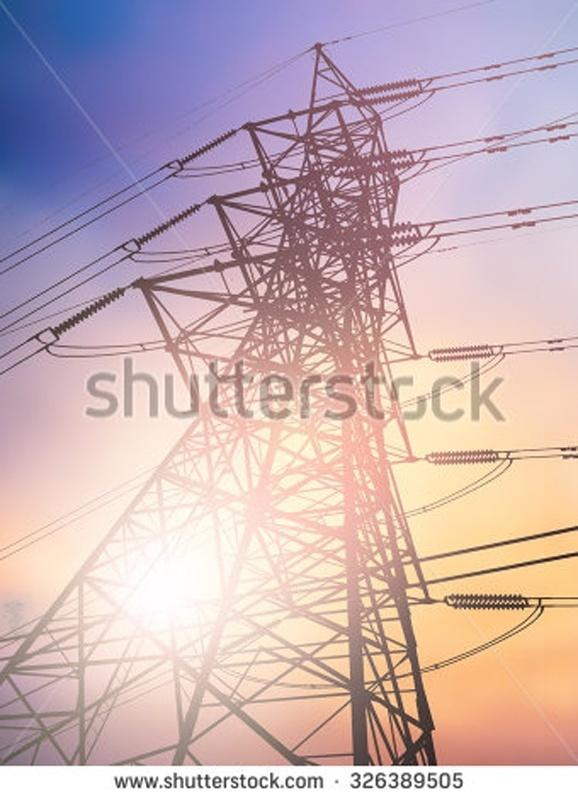power_tower: (5, 39, 463, 735)
